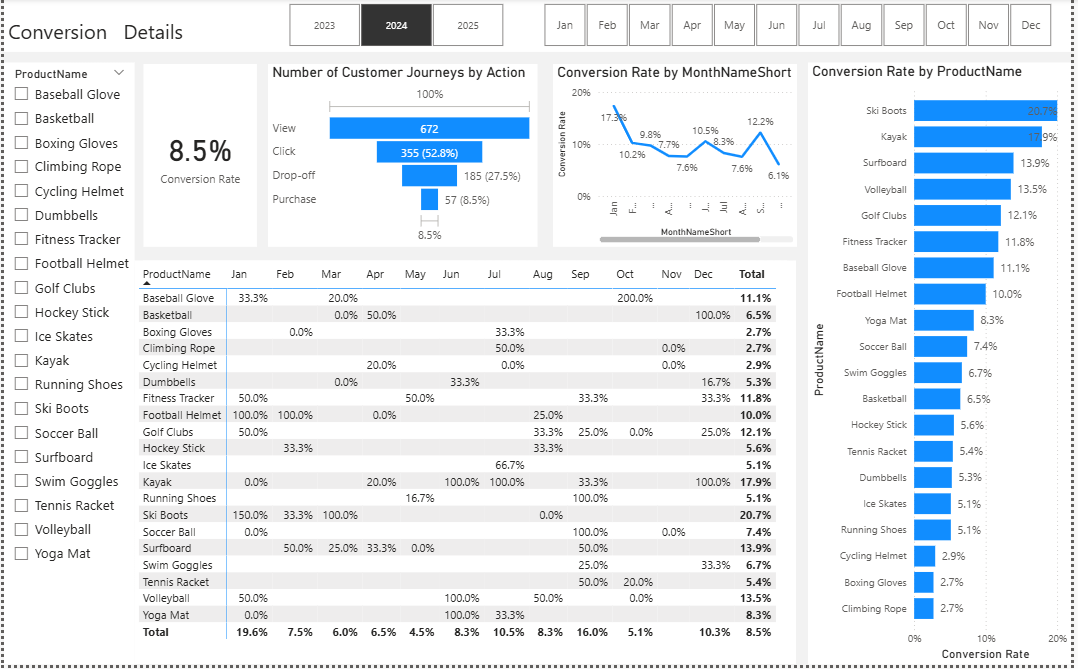

This screenshot's page, from the dashboard's own definition file:
{"tool":"powerbi","page":{"name":"Conversion Details","canvas":[1280,800],"ordinal":1},"visuals":[{"type":"textbox","box":[0,0,1279.2,64.8],"z":0},{"type":"slicer","fields":{"Values":["dim_products.ProductName"]},"box":[0,77.5,156.9,721.9],"z":1000},{"type":"card","fields":{"Values":["_Calculations.Conversion Rate"]},"box":[168.2,79.4,136.1,219.2],"z":2000},{"type":"slicer","fields":{"Values":["Calendar.Year"]},"box":[317.5,0,306.1,64.3],"z":3000},{"type":"slicer","fields":{"Values":["Calendar.MonthNameShort"]},"box":[621.7,0,657.6,64.3],"z":4000},{"type":"lineChart","fields":{"Y":["_Calculations.Conversion Rate"],"Category":["Calendar.MonthNameShort"]},"box":[657.6,79.4,292.9,219.2],"z":5000},{"type":"clusteredBarChart","fields":{"Category":["dim_products.ProductName"],"Y":["_Calculations.Conversion Rate"]},"box":[963.8,77.5,315.6,721.9],"z":6000},{"type":"pivotTable","fields":{"Values":["_Calculations.Conversion Rate"],"Rows":["dim_products.ProductName"],"Columns":["Calendar.MonthNameShort"]},"box":[168.2,315.6,782.4,483.8],"z":7000},{"type":"funnel","fields":{"Y":["_Calculations.Number of Customer Journeys"],"Category":["fact_customer_journey.Action"]},"box":[317.5,79.4,323.2,219.2],"z":8000},{"type":"pivotTable","fields":{"Values":["_Calculations.Conversion Rate"],"Rows":["dim_products.ProductName"],"Columns":["Calendar.MonthNameShort"]},"box":[156.9,315.6,782.4,483.8],"z":9000}]}

Visuals, with their boxes in screenshot pixels (x1, y1, x2, y2), scaled from the page's 1280x800 canvas onto the 1078x669 screenshot:
textbox: crop(0, 0, 1077, 54)
slicer - dim_products.ProductName: crop(0, 65, 132, 668)
card - _Calculations.Conversion Rate: crop(142, 66, 256, 250)
slicer - Calendar.Year: crop(267, 0, 525, 54)
slicer - Calendar.MonthNameShort: crop(524, 0, 1077, 54)
lineChart - _Calculations.Conversion Rate x Calendar.MonthNameShort: crop(554, 66, 800, 250)
clusteredBarChart - dim_products.ProductName x _Calculations.Conversion Rate: crop(812, 65, 1077, 668)
pivotTable - _Calculations.Conversion Rate x dim_products.ProductName: crop(142, 264, 801, 668)
funnel - _Calculations.Number of Customer Journeys x fact_customer_journey.Action: crop(267, 66, 540, 250)
pivotTable - _Calculations.Conversion Rate x dim_products.ProductName: crop(132, 264, 791, 668)
